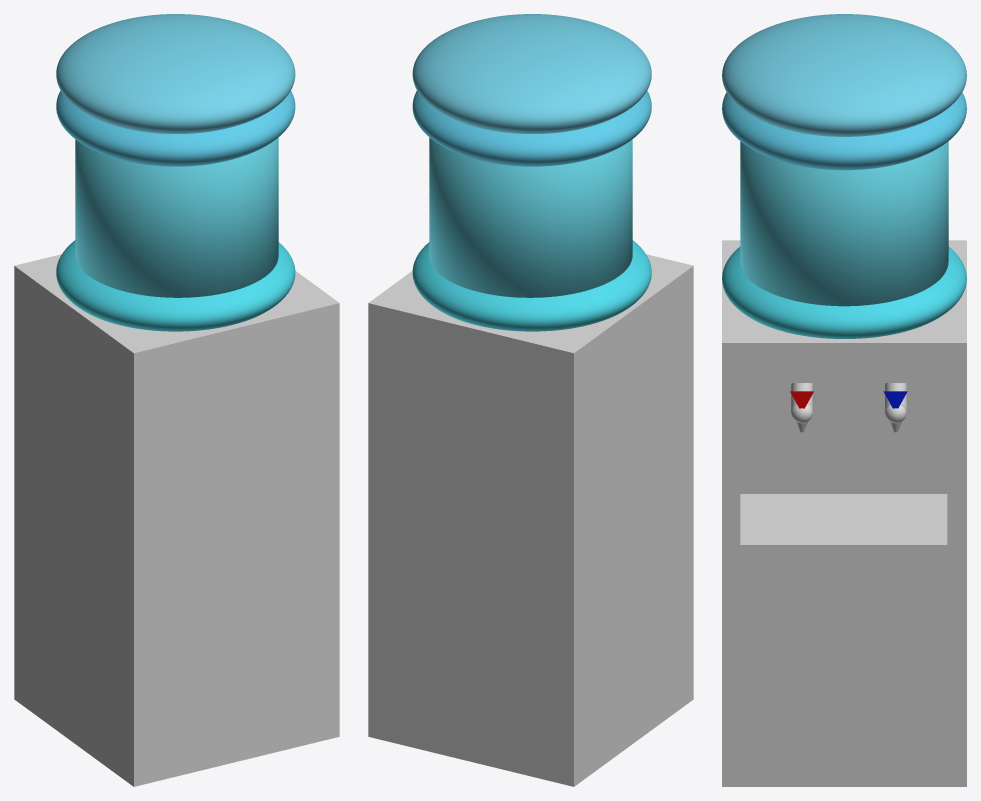
The picture shows the model from 3 angles, left to right: view 1: azimuth 30°, elevation 25°; view 2: azimuth 150°, elevation 25°; view 3: azimuth 270°, elevation 25°; orthographic projection. The views are drawn at different scales.
Visible parts, largest first — view 1: water cooller, water jug; view 2: water cooller, water jug; view 3: water cooller, water jug.
Boxes of the visible parts, box(x1,y1,x2,y2) form: water cooller: box(14, 254, 339, 786); water jug: box(56, 14, 295, 331); water cooller: box(368, 254, 693, 786); water jug: box(412, 14, 651, 331); water cooller: box(722, 240, 966, 786); water jug: box(722, 14, 966, 338).
Size of the model in its own units: 200 by 624 by 200.
